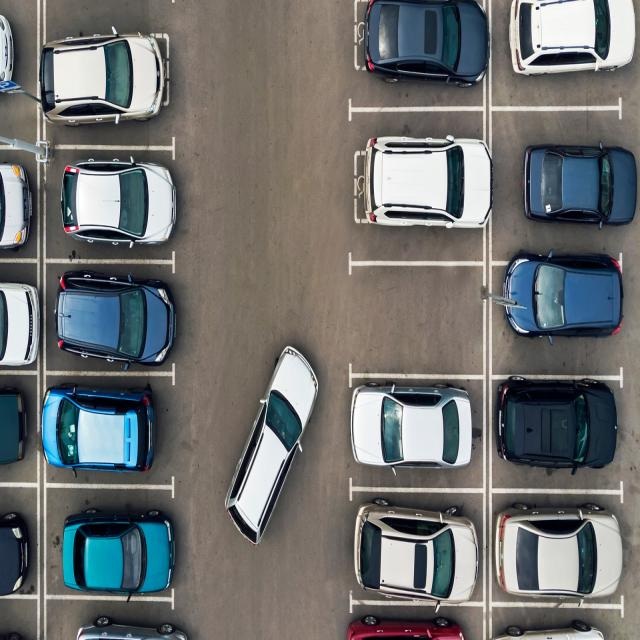space-empty: (345, 264, 485, 375)
space-occupied: (496, 110, 636, 246), (494, 249, 626, 373), (348, 374, 484, 487), (348, 492, 484, 604), (490, 496, 629, 605), (354, 120, 490, 230), (491, 376, 621, 489), (39, 32, 174, 140), (44, 491, 178, 598), (45, 264, 177, 372), (48, 148, 179, 256), (497, 0, 640, 96), (41, 376, 165, 483), (358, 0, 490, 86), (45, 601, 188, 639), (0, 486, 38, 597), (0, 266, 40, 370), (0, 147, 37, 256), (348, 610, 478, 640), (0, 373, 35, 479), (492, 612, 620, 640), (0, 0, 32, 96), (0, 598, 38, 638)
